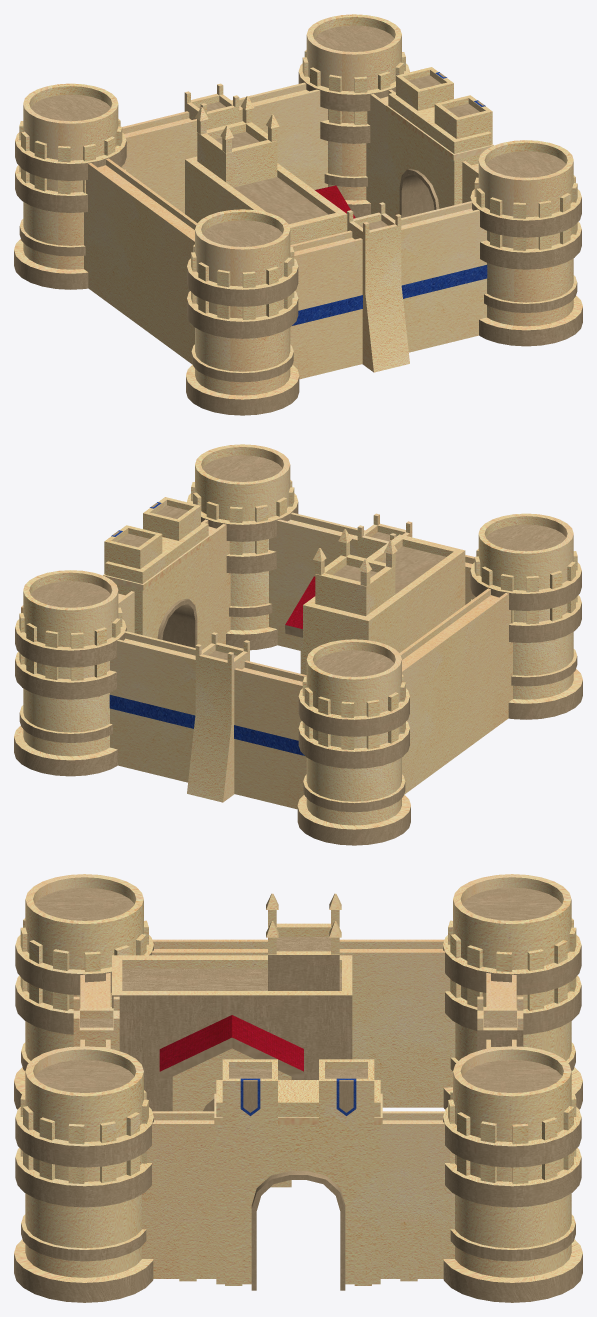
Rendered from Island_3_Blue.fbx.
3 renders of one model, top to bottom at view 1: azimuth 30°, elevation 25°; view 2: azimuth 150°, elevation 25°; view 3: azimuth 270°, elevation 25°, orthographic. The views are drawn at different scales.
Parts seen in each view (by area): view 1: 1; view 2: 1; view 3: 1.
Boxes of the visible parts, bbox=[...] form: 1: bbox=[14, 14, 582, 415]; 1: bbox=[14, 444, 582, 845]; 1: bbox=[14, 874, 582, 1302].
Size of the model in its own units: 143 by 70.56 by 148.
